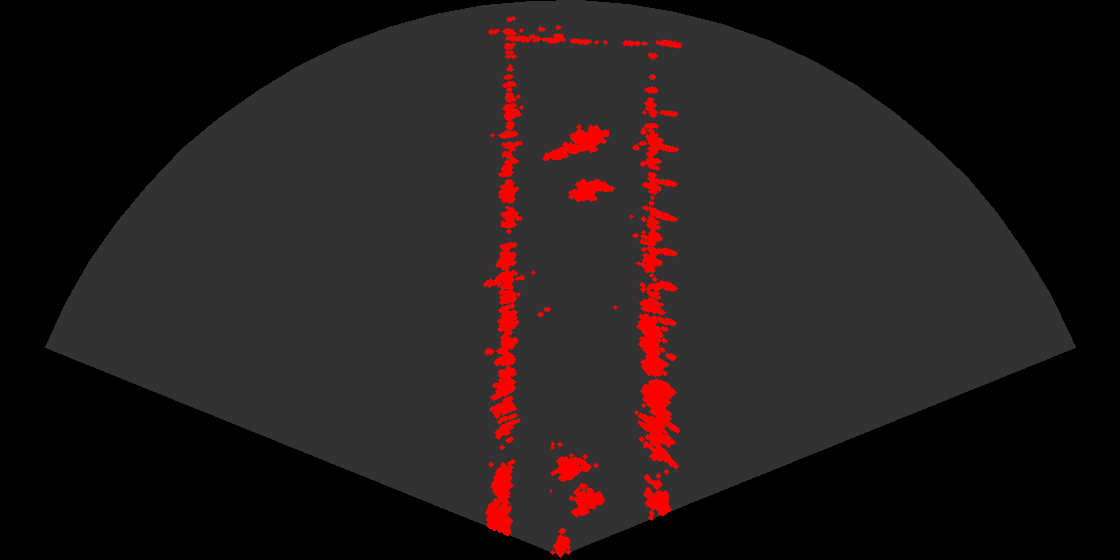AUV: (562, 177, 618, 209)
cage: (550, 442, 613, 526)
frogman: (541, 118, 609, 165)
